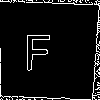F: (23, 24, 53, 71)
